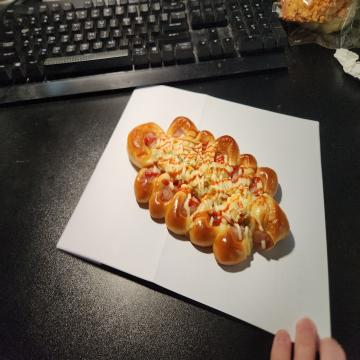pizza_bread: (128, 117, 290, 268)
